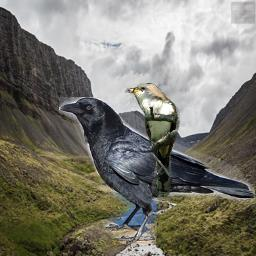Crow: (59, 97, 255, 244)
Cuckoo: (125, 83, 180, 197)
